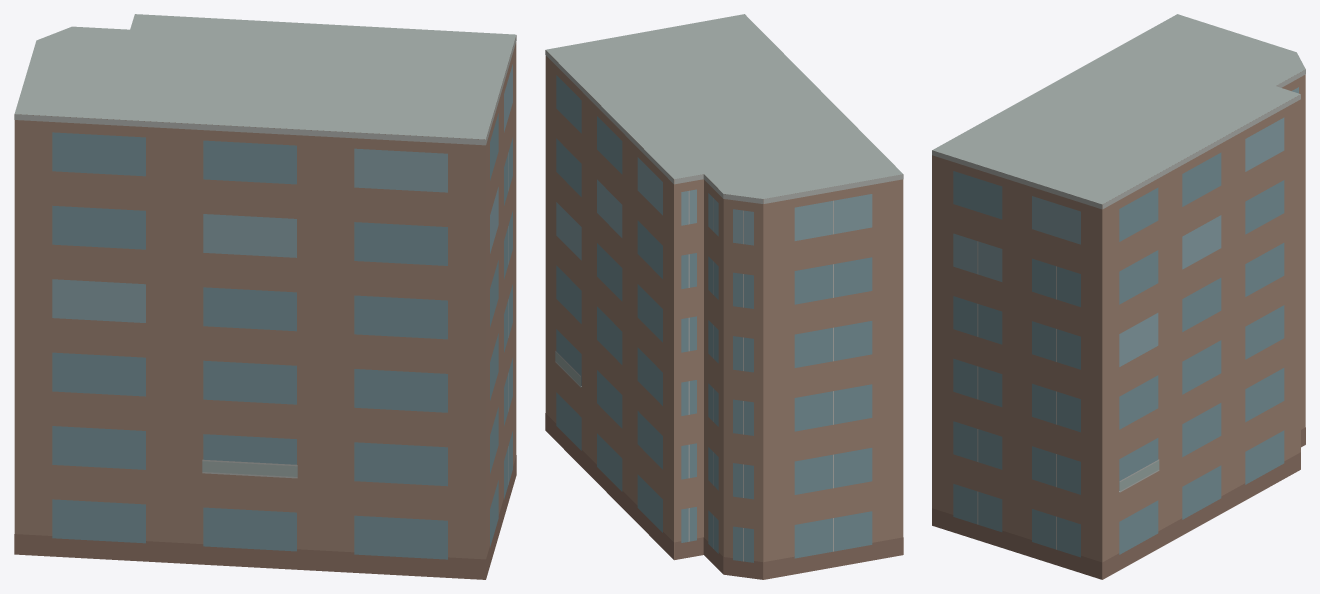
Rendered from survey-upis-32628384.glb.
3 renders of one model, left to right at view 1: azimuth 30°, elevation 25°; view 2: azimuth 150°, elevation 25°; view 3: azimuth 270°, elevation 25°, orthographic. The views are drawn at different scales.
Parts seen in each view (by area): view 1: survey-upis-32628384.tmp; view 2: survey-upis-32628384.tmp; view 3: survey-upis-32628384.tmp.
Boxes of the visible parts, x1,y1,x2,y2 form: survey-upis-32628384.tmp: (14,14,516,579); survey-upis-32628384.tmp: (545,14,903,579); survey-upis-32628384.tmp: (932,14,1305,579).
Bounding box in the file's own units: 19.93 × 18.3 × 16.52.
